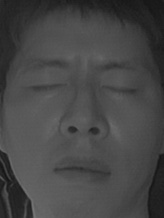blink: (24, 75, 69, 102), (98, 74, 139, 102)
mouth: (48, 149, 115, 191)
